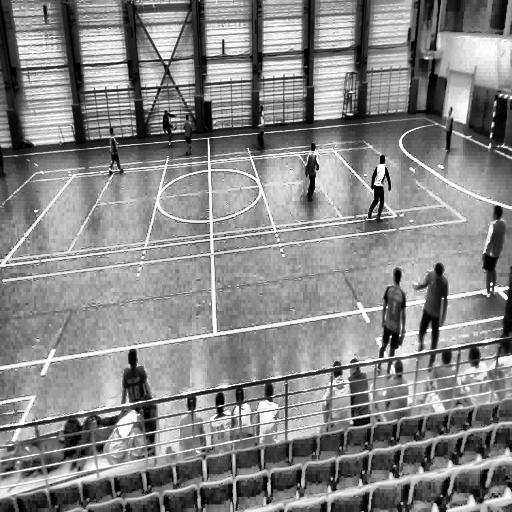ball: (212, 120, 218, 130)
player: (411, 261, 448, 361), (376, 268, 406, 372), (122, 348, 151, 420), (366, 154, 391, 223), (304, 141, 319, 203), (106, 125, 124, 176), (441, 105, 455, 154), (163, 109, 176, 148), (183, 112, 194, 158), (256, 106, 266, 150)
